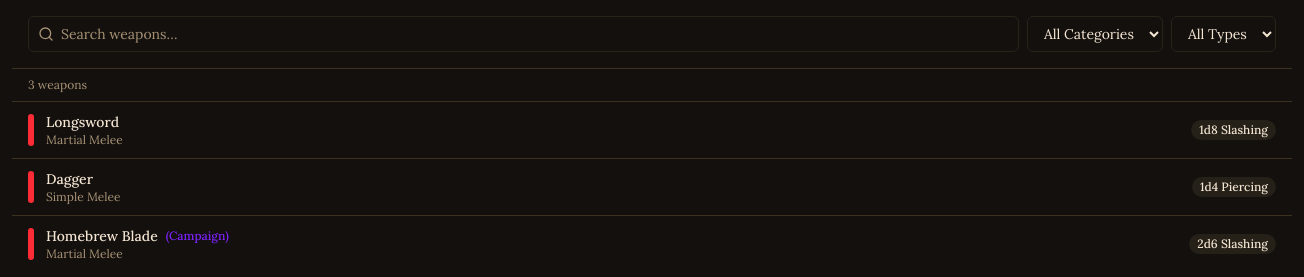
Test: ItemsTab › shows empty state when nothing matches
Expected: the text "Longsword" is shown, top-left (46, 112), bottom-right (119, 132)
Type "zzzz" into the field with test id "item-search" at [524, 34], box top-left (28, 16), bottom-right (1019, 52)
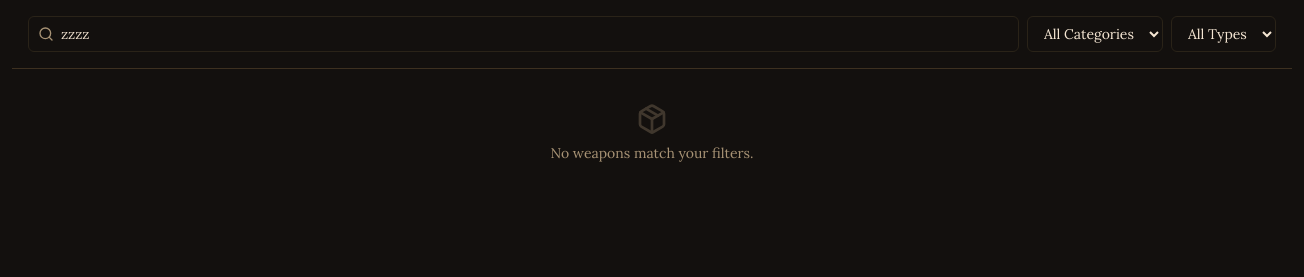
Expected: the text "No weapons match your filters." is shown, top-left (550, 143), bottom-right (754, 163)
